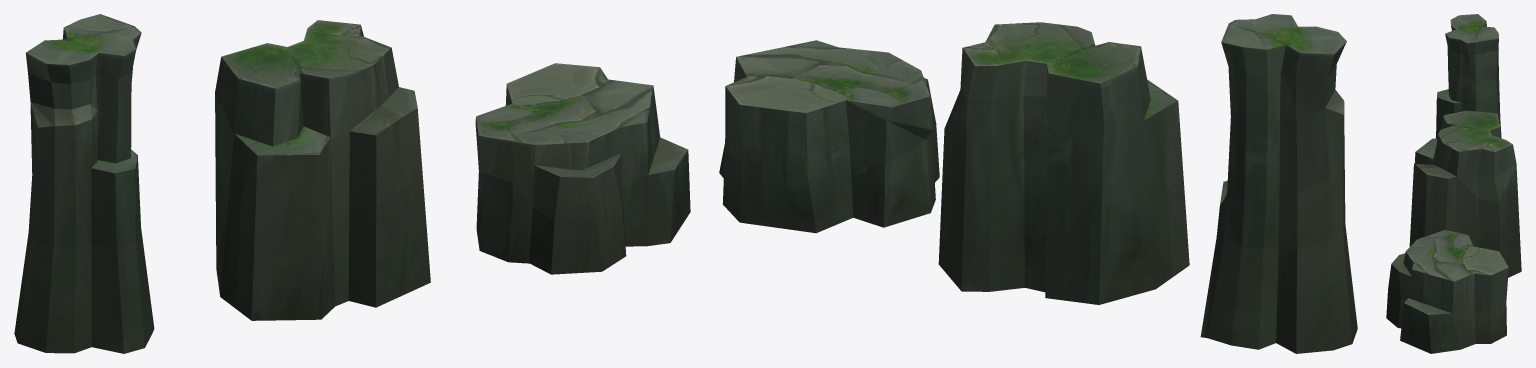
File: FB_1_shitou01.FBX
3 views of the same model, side by side, from view 1: azimuth 30°, elevation 25°; view 2: azimuth 150°, elevation 25°; view 3: azimuth 270°, elevation 25° (orthographic). The views are drawn at different scales.
Visible parts, largest first — view 1: FB_1_shitou01_001, FB_1_shitou01_003, FB_1_shitou01_002; view 2: FB_1_shitou01_001, FB_1_shitou01_003, FB_1_shitou01_002; view 3: FB_1_shitou01_001, FB_1_shitou01_002, FB_1_shitou01_003.
Boxes of the visible parts, x1=… form: FB_1_shitou01_001: x1=215, y1=20, x2=430, y2=320; FB_1_shitou01_003: x1=14, y1=14, x2=154, y2=353; FB_1_shitou01_002: x1=475, y1=63, x2=690, y2=274; FB_1_shitou01_001: x1=938, y1=22, x2=1189, y2=304; FB_1_shitou01_003: x1=1200, y1=14, x2=1357, y2=353; FB_1_shitou01_002: x1=719, y1=40, x2=939, y2=233; FB_1_shitou01_001: x1=1409, y1=110, x2=1521, y2=277; FB_1_shitou01_002: x1=1386, y1=230, x2=1508, y2=353; FB_1_shitou01_003: x1=1435, y1=14, x2=1501, y2=138.
Bounding box in the file's own units: 1651 × 712 × 524.
1 material, 1 textured.
